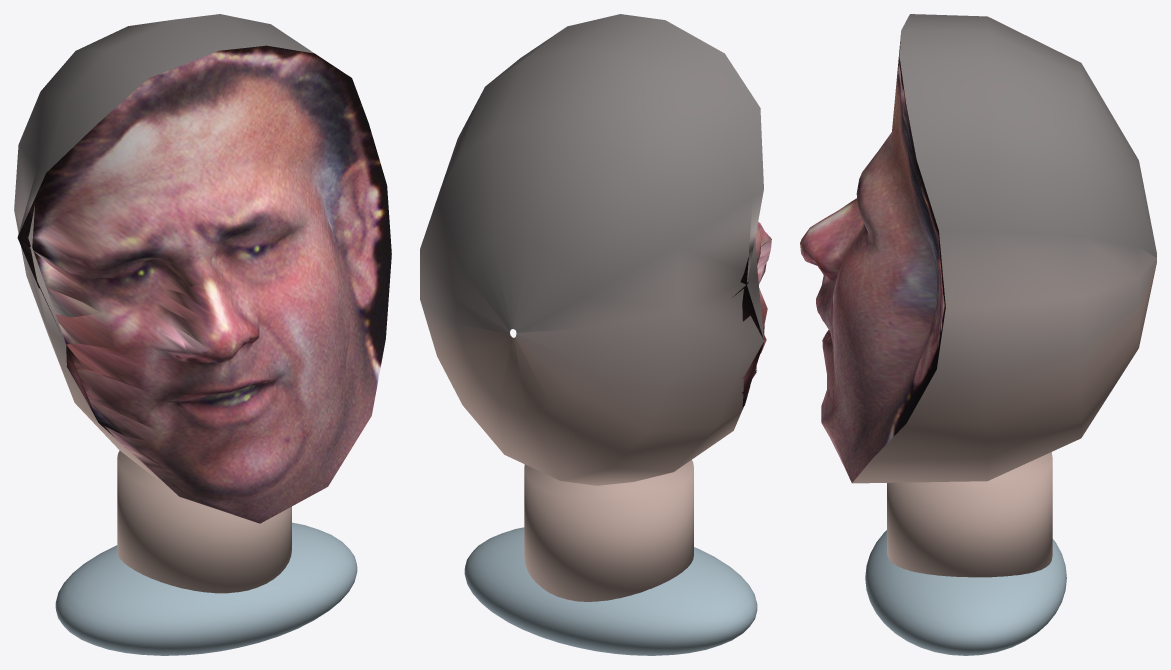
Rendered from jonathan-winters.glb.
3 renders of one model, left to right at view 1: azimuth 30°, elevation 25°; view 2: azimuth 150°, elevation 25°; view 3: azimuth 270°, elevation 25°, orthographic. The views are drawn at different scales.
Parts seen in each view (by area): view 1: Jonathan_Winters_face, Shirt_collar, Cranium_and_hair, Neck; view 2: Cranium_and_hair, Neck, Shirt_collar, Jonathan_Winters_face; view 3: Cranium_and_hair, Jonathan_Winters_face, Neck, Shirt_collar.
Boxes of the visible parts, bbox=[...] form: Jonathan_Winters_face: bbox=[17, 45, 391, 523]; Shirt_collar: bbox=[55, 522, 357, 655]; Cranium_and_hair: bbox=[14, 14, 314, 494]; Neck: bbox=[117, 450, 291, 593]; Cranium_and_hair: bbox=[420, 14, 764, 485]; Neck: bbox=[524, 460, 693, 601]; Shirt_collar: bbox=[464, 527, 757, 655]; Jonathan_Winters_face: bbox=[732, 222, 771, 409]; Cranium_and_hair: bbox=[852, 14, 1156, 483]; Jonathan_Winters_face: bbox=[800, 35, 945, 482]; Neck: bbox=[887, 452, 1052, 577]; Shirt_collar: bbox=[865, 530, 1066, 655].
Size of the model in its own units: 1.02 by 1.78 by 0.991.
Materials: 1 (1 with a texture image).
